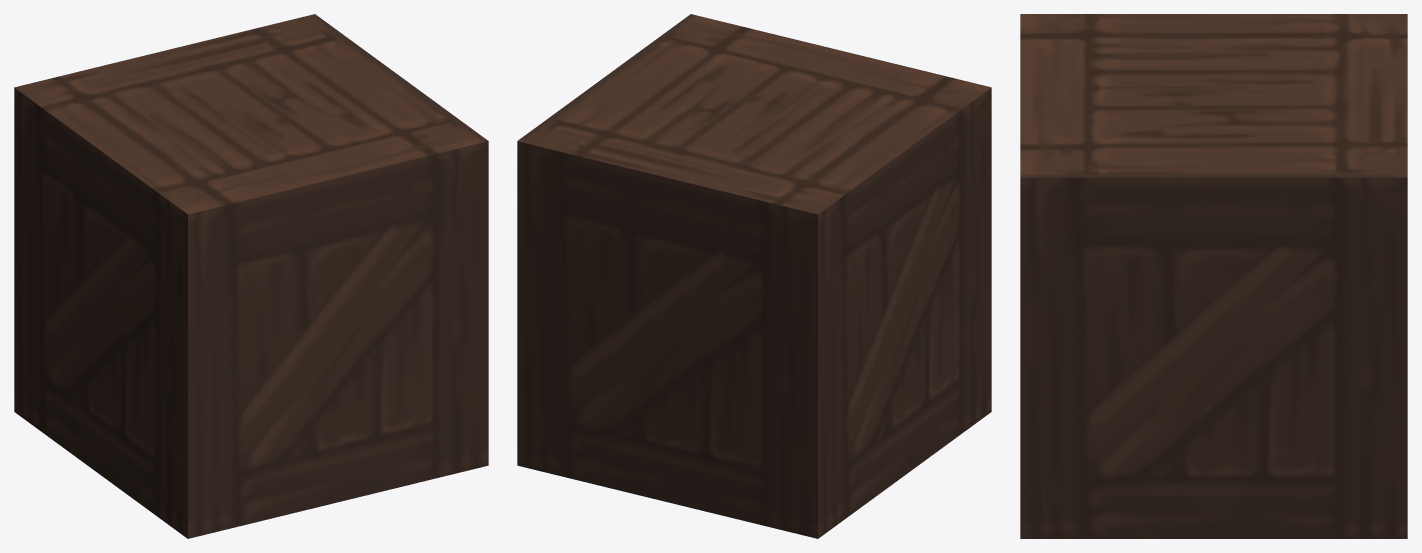
Rendered from wood_box.fbx.
3 renders of one model, left to right at view 1: azimuth 30°, elevation 25°; view 2: azimuth 150°, elevation 25°; view 3: azimuth 270°, elevation 25°, orthographic. The views are drawn at different scales.
Visible parts, largest first — view 1: Object006; view 2: Object006; view 3: Object006.
Boxes of the visible parts, <box> form: Object006: <box>14,14,488,538</box>; Object006: <box>517,14,991,538</box>; Object006: <box>1020,14,1407,538</box>.
Bounding box in the file's own units: 20.44 × 21.06 × 20.44.
